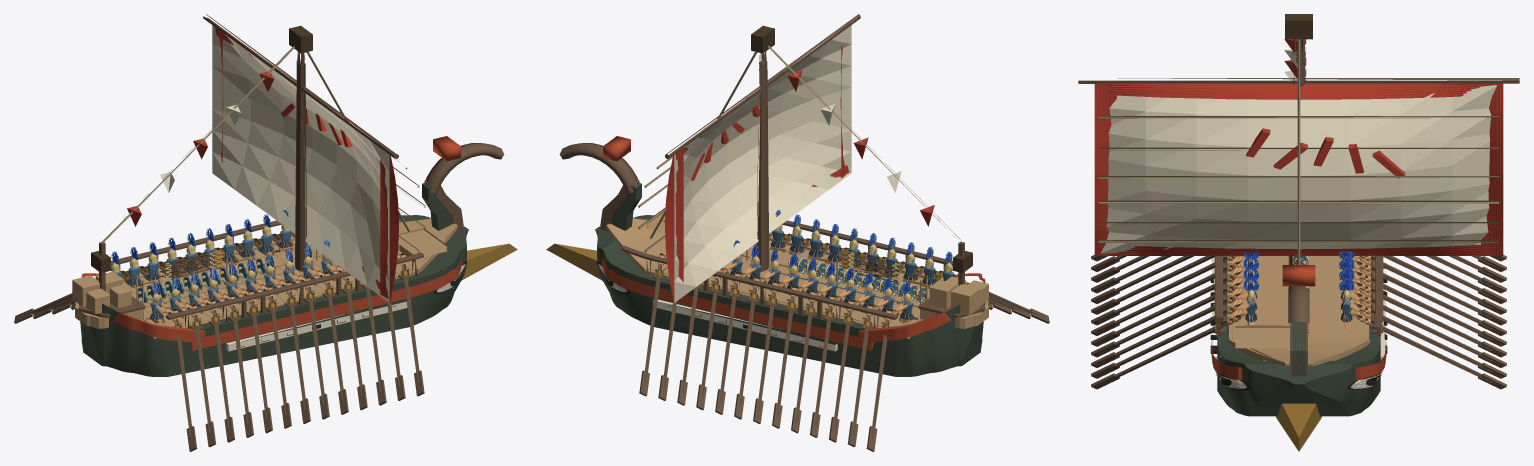
The model's file is warship-battle-v12.glb.
3 views of the same model, side by side, from view 1: azimuth 30°, elevation 25°; view 2: azimuth 150°, elevation 25°; view 3: azimuth 270°, elevation 25° (orthographic). The views are drawn at different scales.
Visible parts, largest first — view 1: sail, hull-low, n27, mast, n295, n253, n289, n31, n59, n29, hull-prow, Bow transfer deck (+8 smaller); view 2: sail, hull-low, n3, mast, n293, Bow transfer deck, n233, n289, n7, n59, n5, hull-prow (+8 smaller); view 3: sail, hull-low, n297, n299, n293, n295, n289, Bow transfer deck, n305, hull-prow, n301, n311 (+36 smaller).
Part boxes in pixels (x1,y1,x2,y2): sail: (212, 25, 389, 302); hull-low: (80, 215, 468, 376); n27: (189, 256, 461, 350); mast: (295, 60, 307, 271); n295: (380, 155, 398, 301); n253: (166, 252, 423, 319); n289: (203, 14, 398, 159); n31: (226, 300, 410, 351); n59: (425, 143, 504, 193); n29: (113, 312, 205, 342); hull-prow: (462, 243, 517, 280); Bow transfer deck: (398, 218, 457, 272); sail: (674, 25, 851, 302); hull-low: (595, 215, 983, 376); n3: (602, 256, 873, 350); mast: (757, 60, 769, 271); n293: (665, 145, 683, 301); Bow transfer deck: (606, 218, 666, 272); n233: (621, 245, 897, 319); n289: (665, 14, 860, 159); n7: (653, 299, 837, 351); n59: (559, 143, 638, 193); n5: (858, 312, 950, 342); hull-prow: (546, 243, 601, 280); sail: (1100, 85, 1497, 253); hull-low: (1217, 256, 1380, 416); n297: (1108, 83, 1495, 99); n299: (1098, 244, 1490, 255); n293: (1481, 83, 1503, 255); n295: (1094, 83, 1116, 255); n289: (1078, 78, 1519, 83); Bow transfer deck: (1227, 339, 1370, 365); n305: (1098, 200, 1499, 203); hull-prow: (1276, 403, 1321, 451); n301: (1098, 240, 1499, 242); n311: (1098, 116, 1499, 118).
Bounding box in the file's own units: 6.24 × 4.2 × 4.72.
